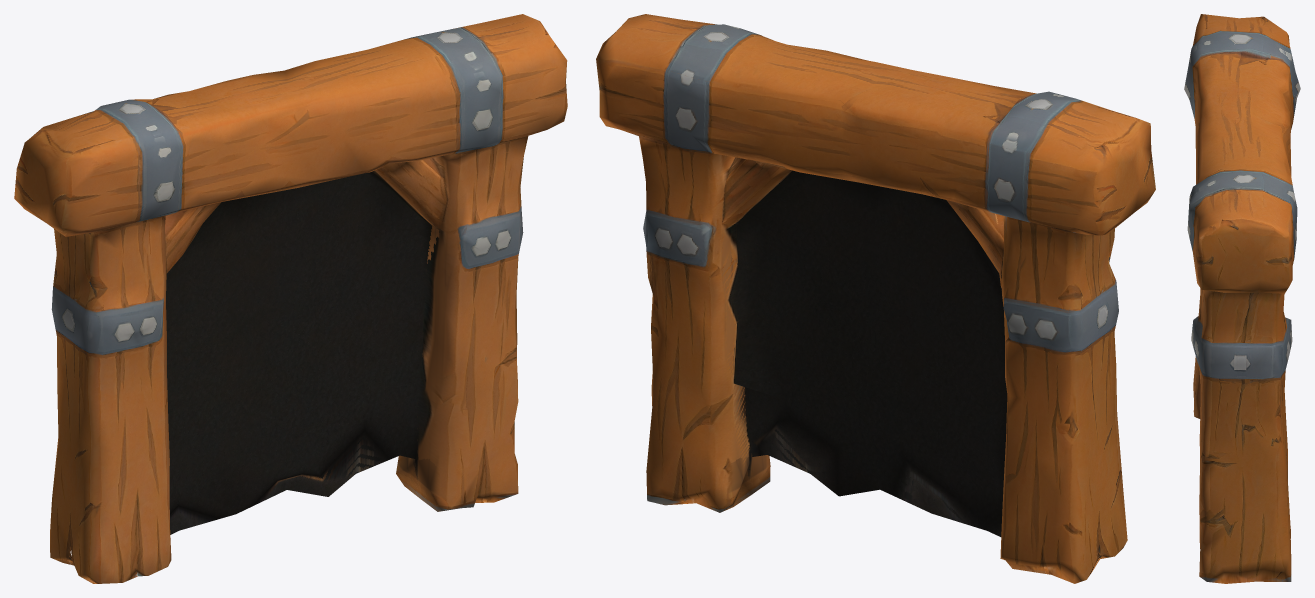
Rendered from TunnelEntrance.glb.
The picture shows the model from 3 angles, left to right: view 1: azimuth 30°, elevation 25°; view 2: azimuth 150°, elevation 25°; view 3: azimuth 270°, elevation 25°; orthographic projection. The views are drawn at different scales.
Parts seen in each view (by area): view 1: texture_mapping; view 2: texture_mapping; view 3: texture_mapping.
Boxes of the visible parts, left/top/right/bottom form: texture_mapping: left=14, top=14, right=567, bottom=583; texture_mapping: left=596, top=14, right=1155, bottom=583; texture_mapping: left=1184, top=14, right=1300, bottom=583.
Size of the model in its own units: 0.9969 by 0.8713 by 0.233.
1 material, 1 textured.
